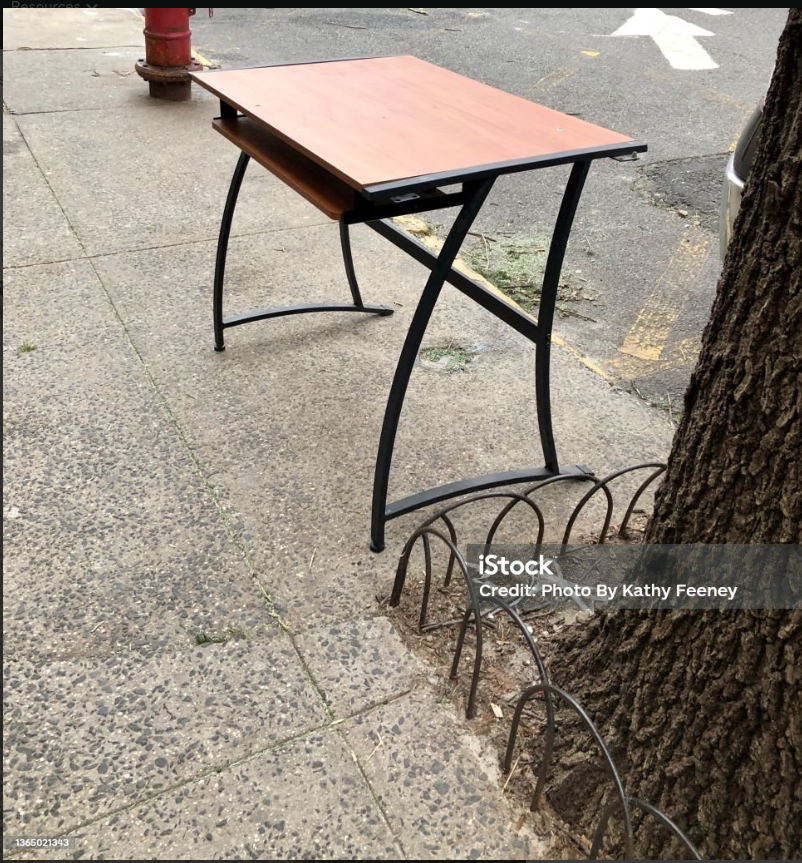obstacle: (190, 56, 646, 548)
